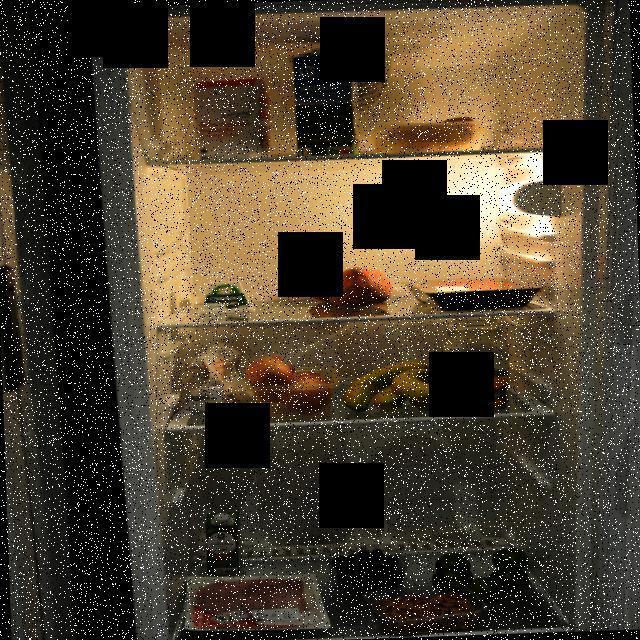banana: (338, 358, 468, 413)
beef: (399, 274, 545, 312)
blueberries: (321, 541, 412, 594)
corn: (456, 367, 508, 412)
flour: (168, 337, 256, 418)
goat_cheese: (195, 277, 258, 314)
ham: (182, 569, 333, 635)
heavy_cream: (204, 510, 242, 576)
lime: (430, 546, 530, 606)
milk: (288, 44, 364, 162)
onion: (242, 352, 342, 419)
potato: (378, 115, 494, 156)
shrimp: (370, 590, 484, 636)
sugar: (192, 76, 274, 162), (440, 314, 510, 408)
sweet_potato: (307, 262, 402, 316)
